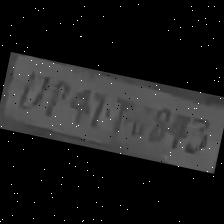3: (181, 109, 214, 157)
6: (117, 93, 150, 142)
7: (84, 84, 113, 132)
8: (143, 99, 174, 147)
K: (103, 89, 135, 139)
P: (61, 79, 94, 127), (38, 72, 70, 119)
U: (13, 63, 48, 112)
